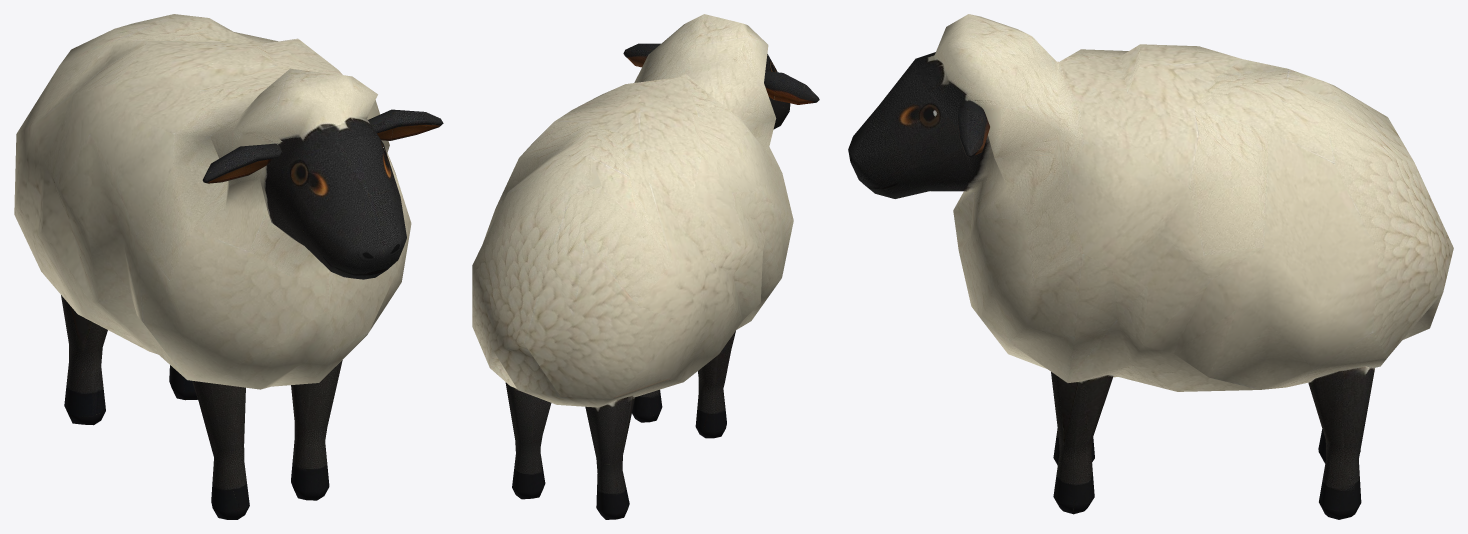
Rendered from pasture-sheep.glb.
The picture shows the model from 3 angles, left to right: view 1: azimuth 30°, elevation 25°; view 2: azimuth 150°, elevation 25°; view 3: azimuth 270°, elevation 25°; orthographic projection. The views are drawn at different scales.
Bounding box in the file's own units: 0.5366 × 0.8223 × 0.9653.
Materials: 1 (1 with a texture image).
